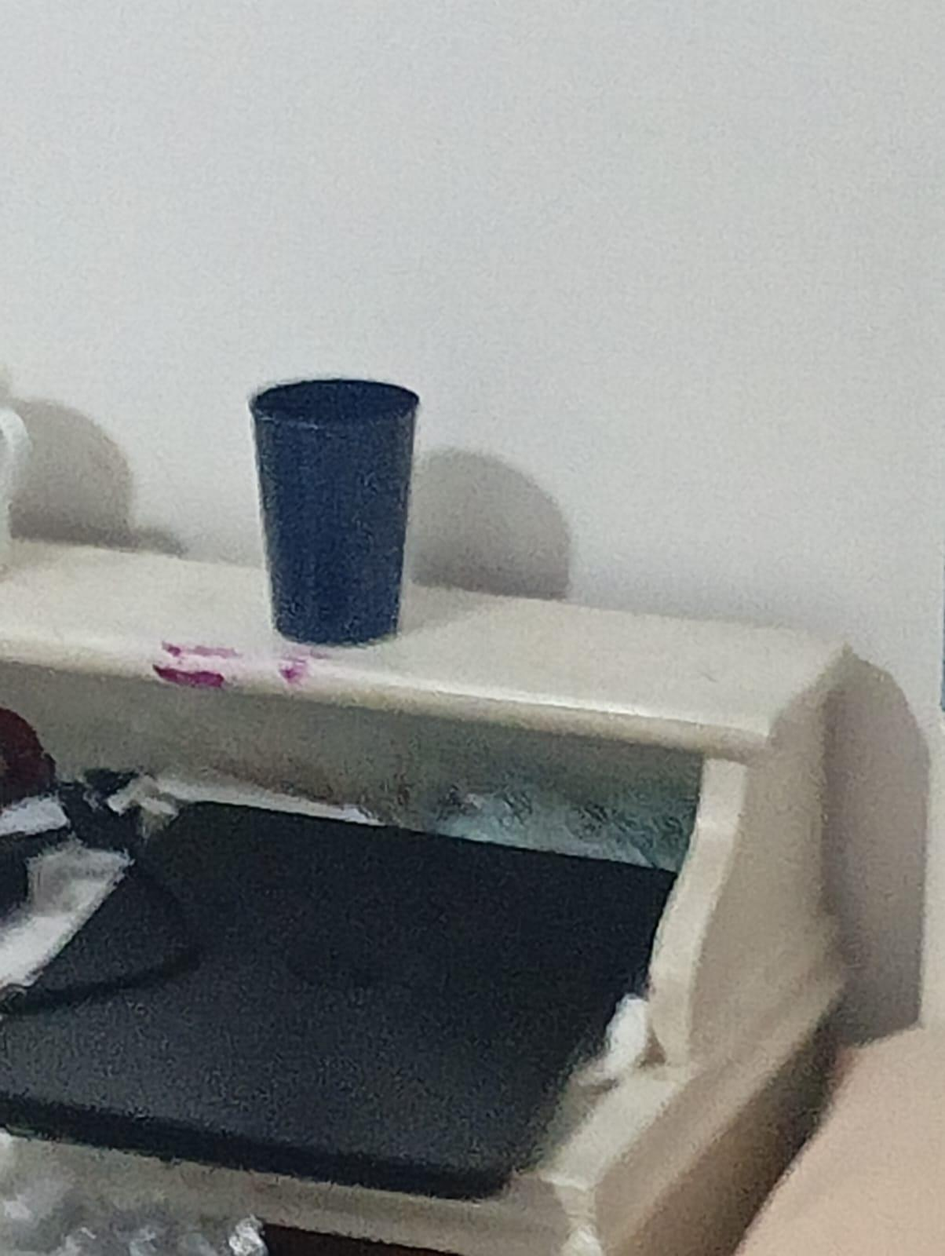cup: (249, 378, 419, 644)
